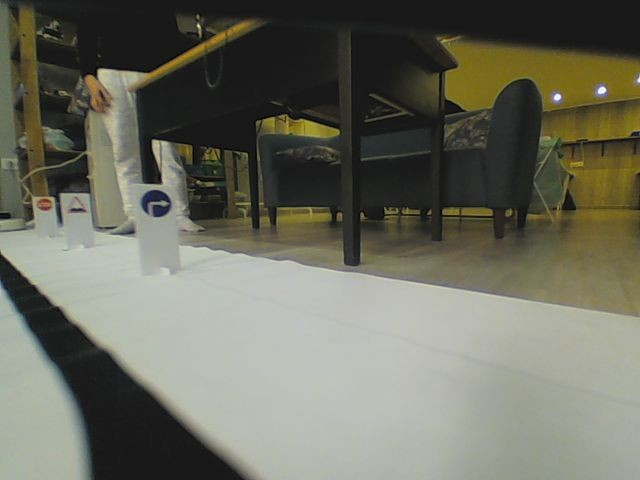Nerov: (65, 195, 87, 214)
Right: (141, 189, 173, 218)
